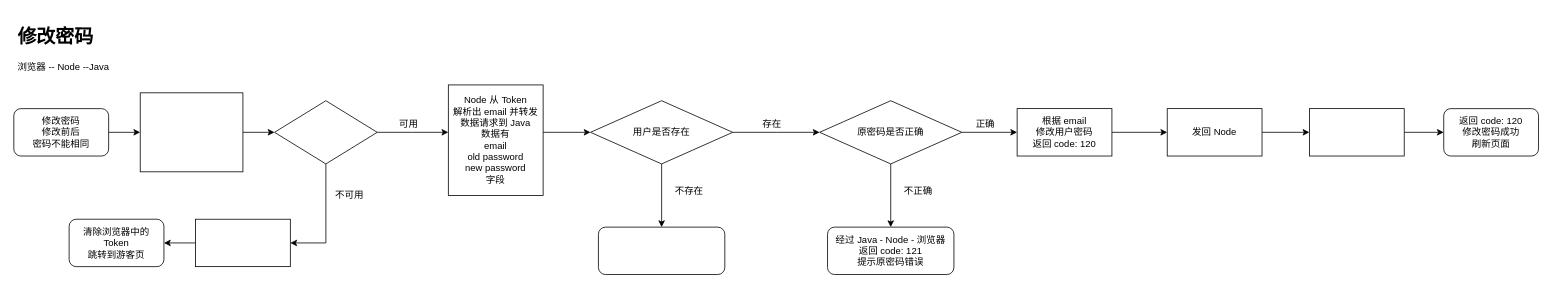
Image size: 1552x288. Some labels were removed from this diagram. Here are the shapes that lost their labels. From the top down, the centre of each, then its label:
At [191,132]: "浏览器发送 Token old password new password 字段到 Node Token 包含用户 email".
At [325,132]: "判断Token 是否可用".
At [1356,132]: "发回浏览器".
At [242,242]: "Node 到 浏览器 返回 code: 241".
At [661,250]: "经过 Java - Node - 浏览器 返回 code: 122 提示账号不存在".
